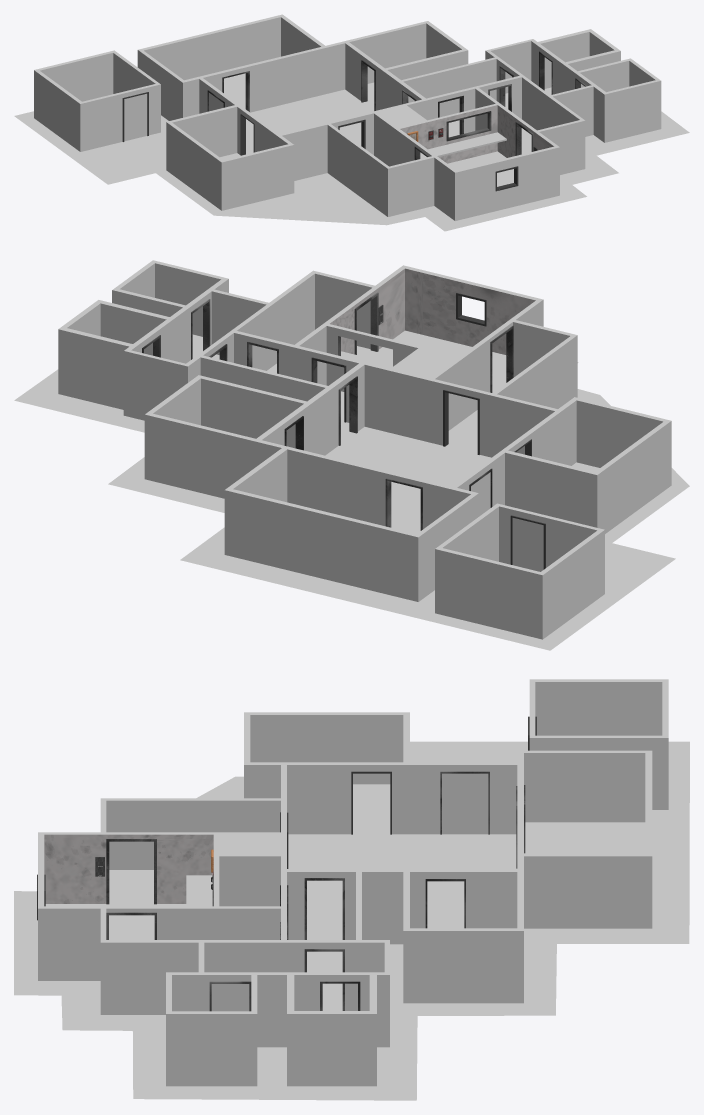
Rendered from map.glb.
The picture shows the model from 3 angles, top to bottom: view 1: azimuth 30°, elevation 25°; view 2: azimuth 150°, elevation 25°; view 3: azimuth 270°, elevation 25°; orthographic projection. The views are drawn at different scales.
Visible parts, largest first — view 1: Map; view 2: Map; view 3: Map.
Part boxes in pixels (<box>): Map: <box>14,14,689,231</box>; Map: <box>14,260,689,650</box>; Map: <box>14,679,689,1100</box>.
Size of the model in its own units: 37.48 by 3.58 by 29.83.
Materials: 9 (7 with a texture image).
